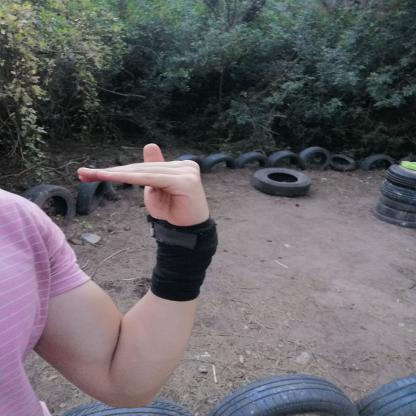KHAA: (65, 137, 228, 235)
